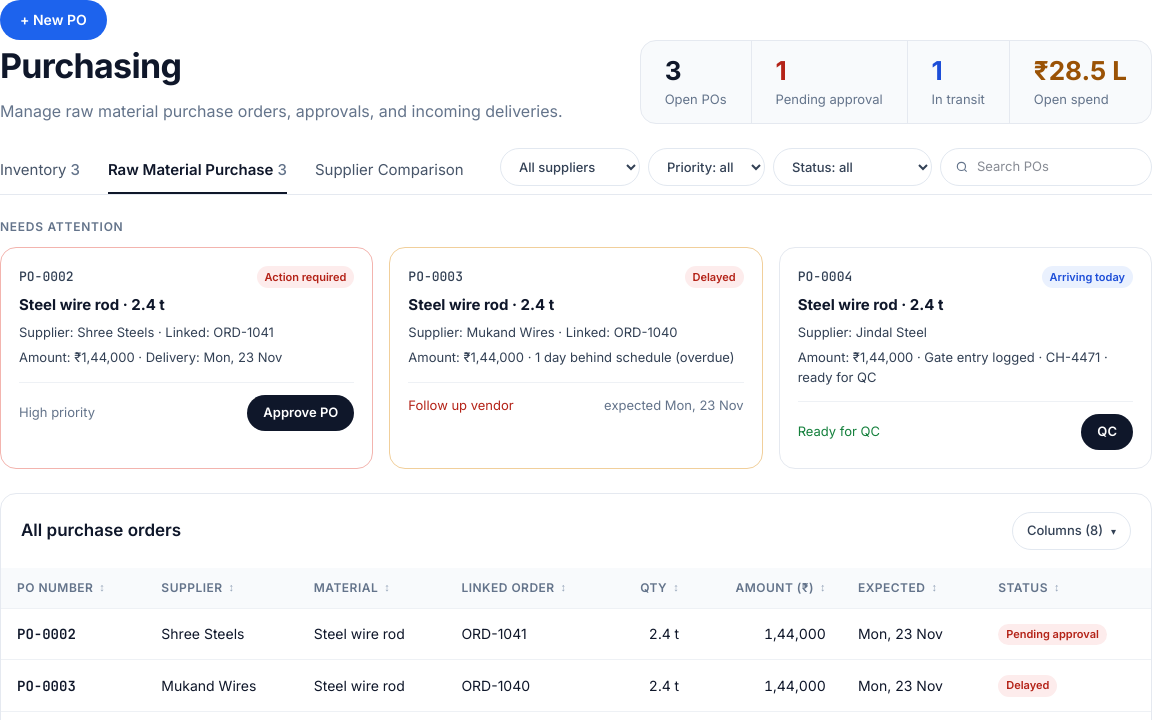
Test case: a PO opens with its timeline and next steps
Click the text "PO-0003" at (46, 686), box [17, 676, 76, 694]
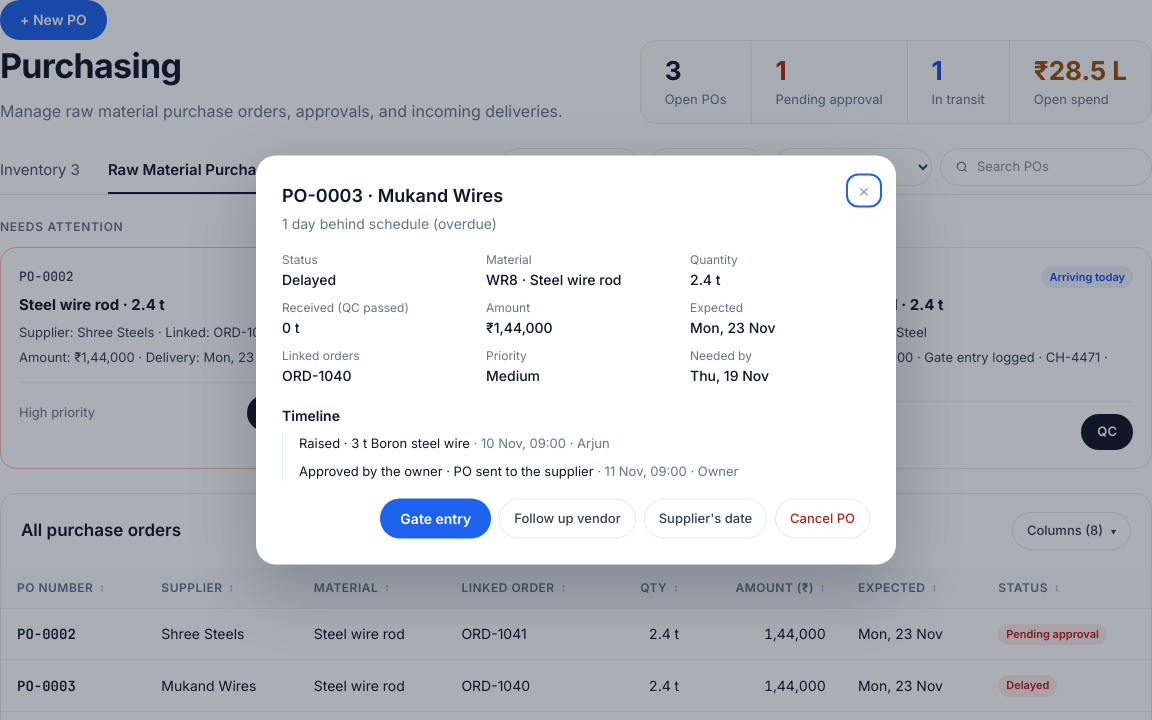
Expected: the text "Raised · 3 t Boron steel wire" is shown, [299, 434, 470, 450]
Expected: the button "Gate entry" is shown, [380, 498, 491, 538]
Expected: the button "Follow up vendor" is shown, [499, 498, 636, 538]
